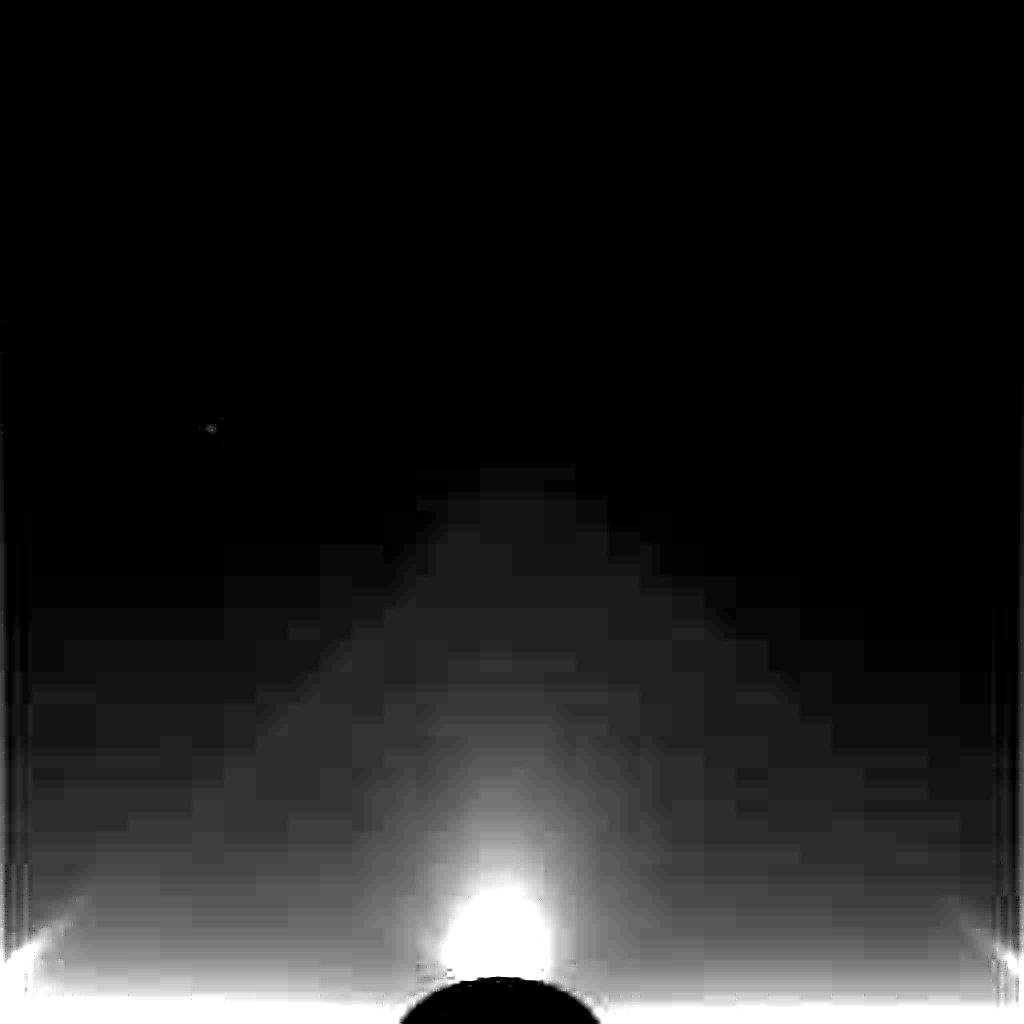plumes: (438, 887, 548, 981)
